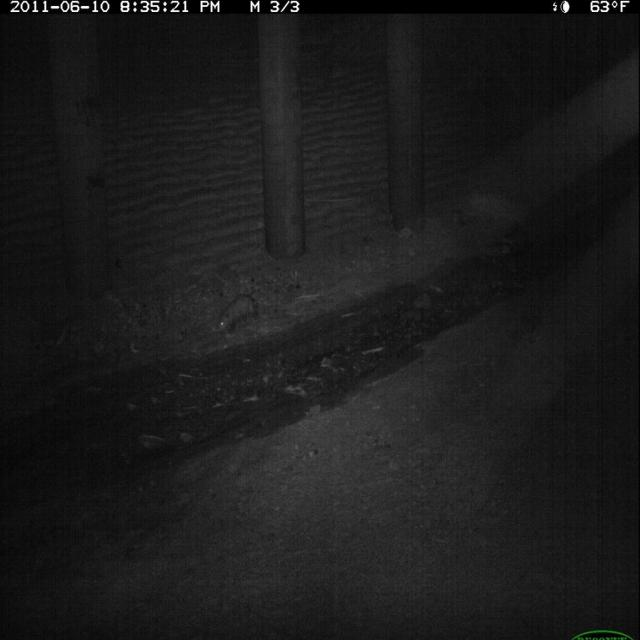opossum: (214, 289, 264, 339)
